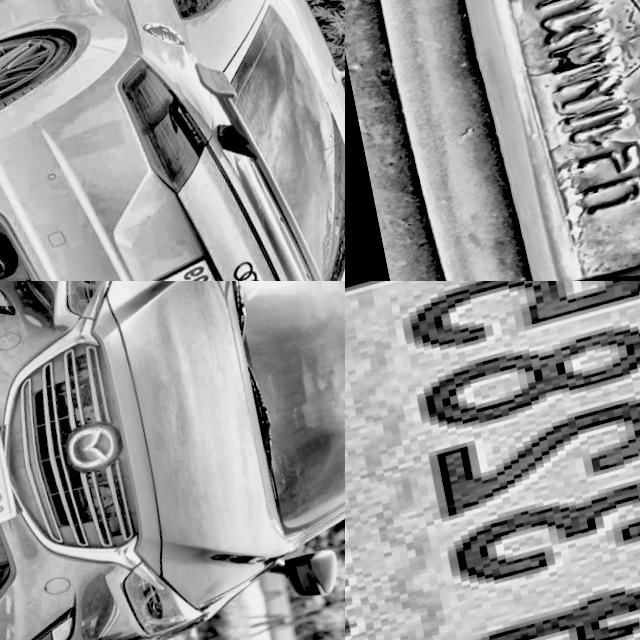license-plate: (345, 281, 640, 640), (345, 0, 640, 281), (0, 416, 25, 542), (144, 252, 250, 281)
